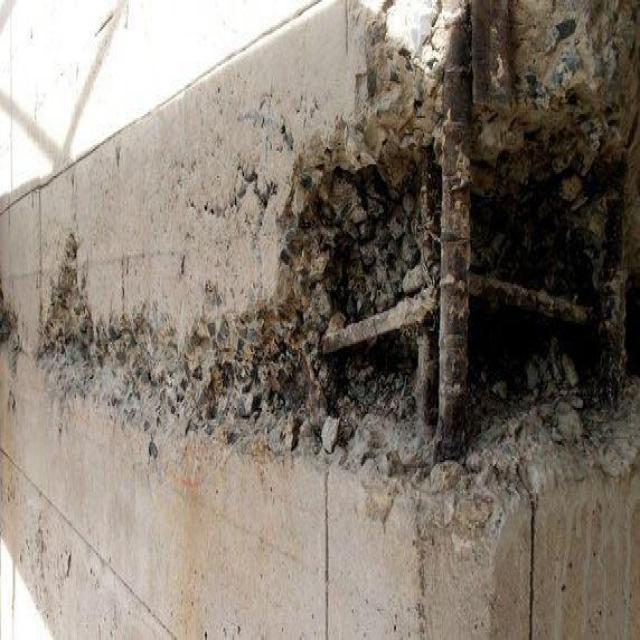Rebar: (33, 0, 639, 534)
concrete spalling: (0, 284, 29, 377)
